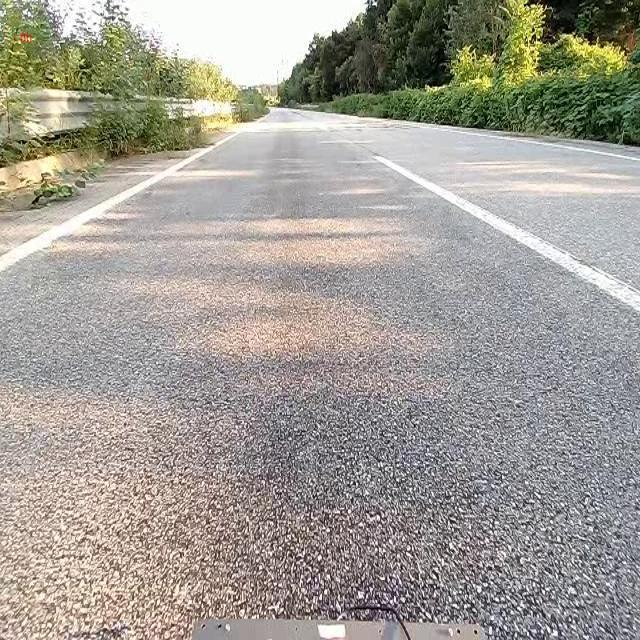Lane: (372, 153, 640, 330), (373, 156, 639, 313), (0, 123, 247, 275), (0, 129, 243, 273)
